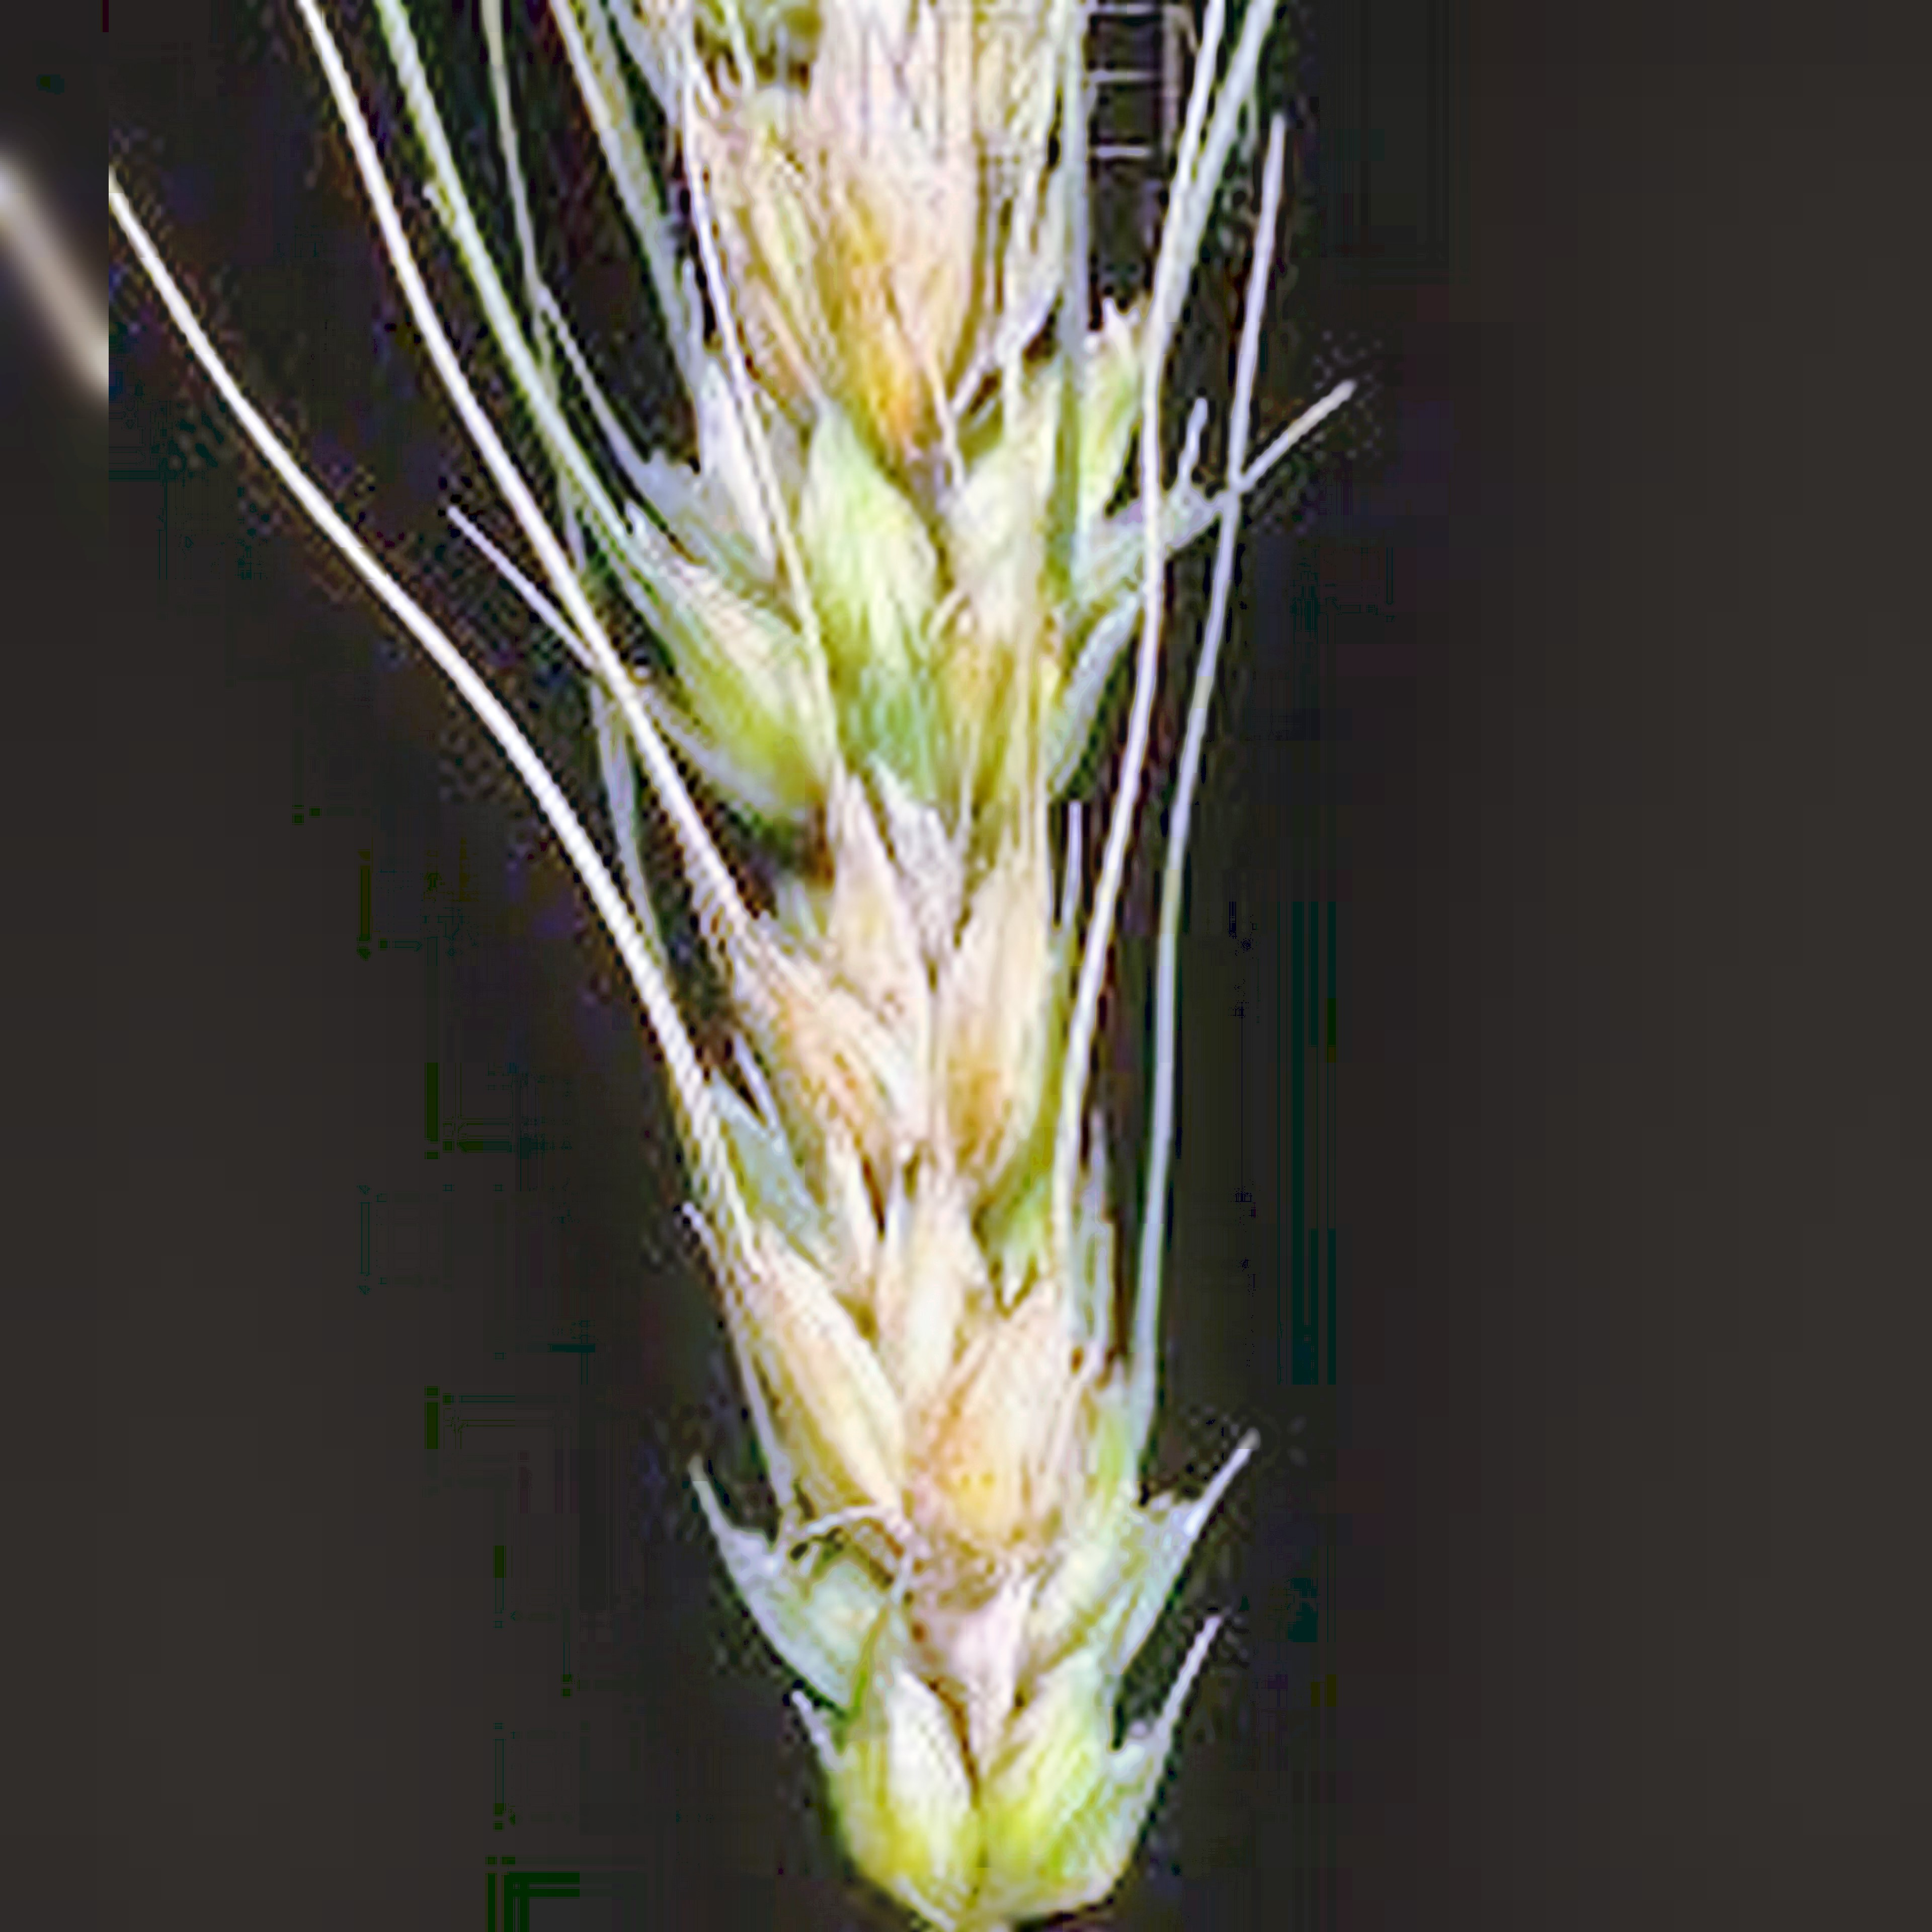Wheat scab: (552, 67, 1323, 1890)
